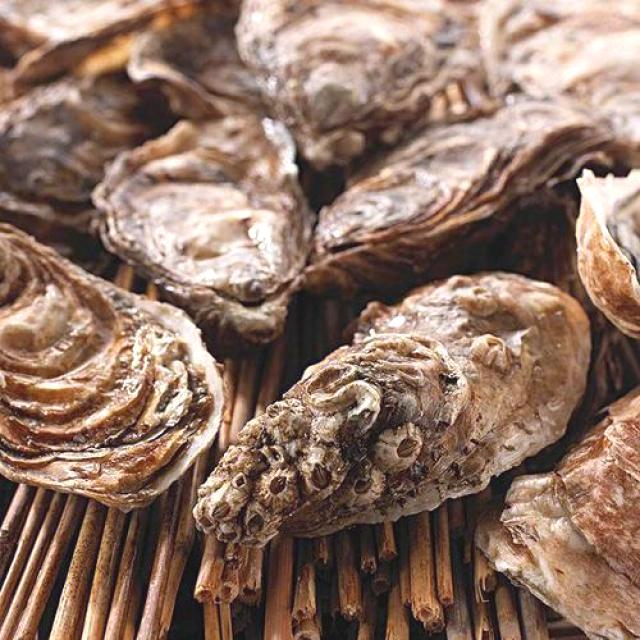Oyster-Closed: (194, 272, 593, 558), (0, 226, 222, 514), (91, 113, 300, 360), (316, 105, 616, 268), (490, 390, 640, 640), (235, 0, 478, 131), (104, 2, 308, 140), (480, 0, 640, 167), (0, 82, 140, 236), (574, 174, 640, 351), (0, 0, 196, 36), (0, 26, 112, 84)
